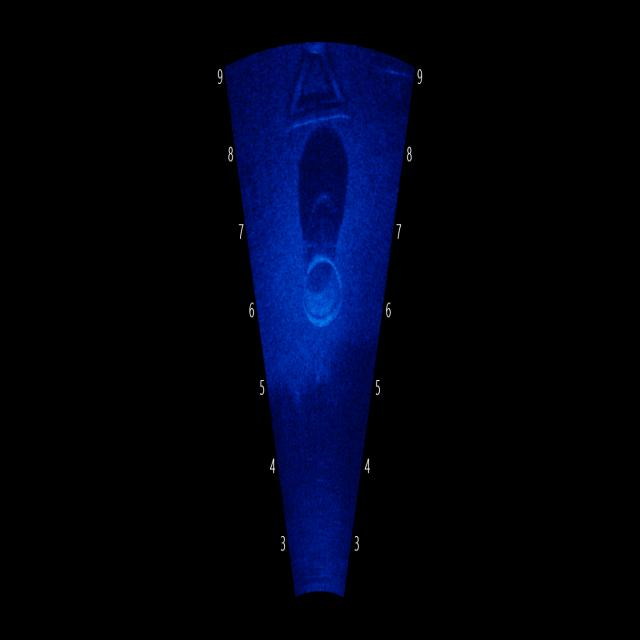circle: (284, 227, 360, 359)
triangle: (268, 42, 354, 153)
